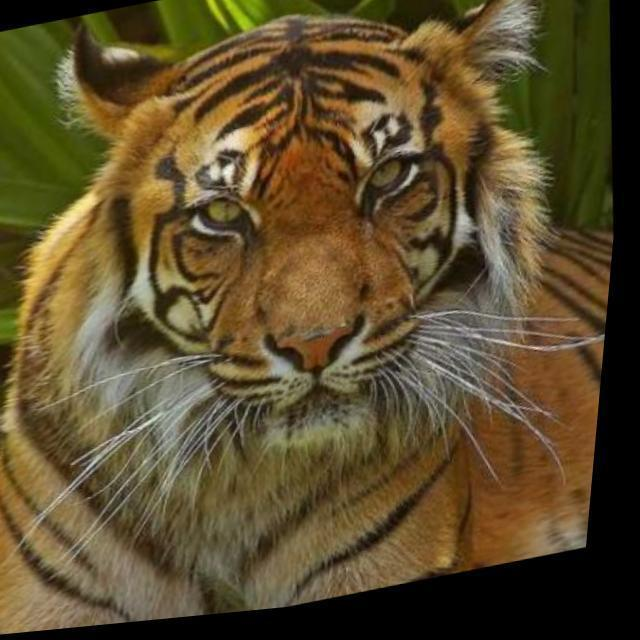tiger: (0, 0, 608, 635)
